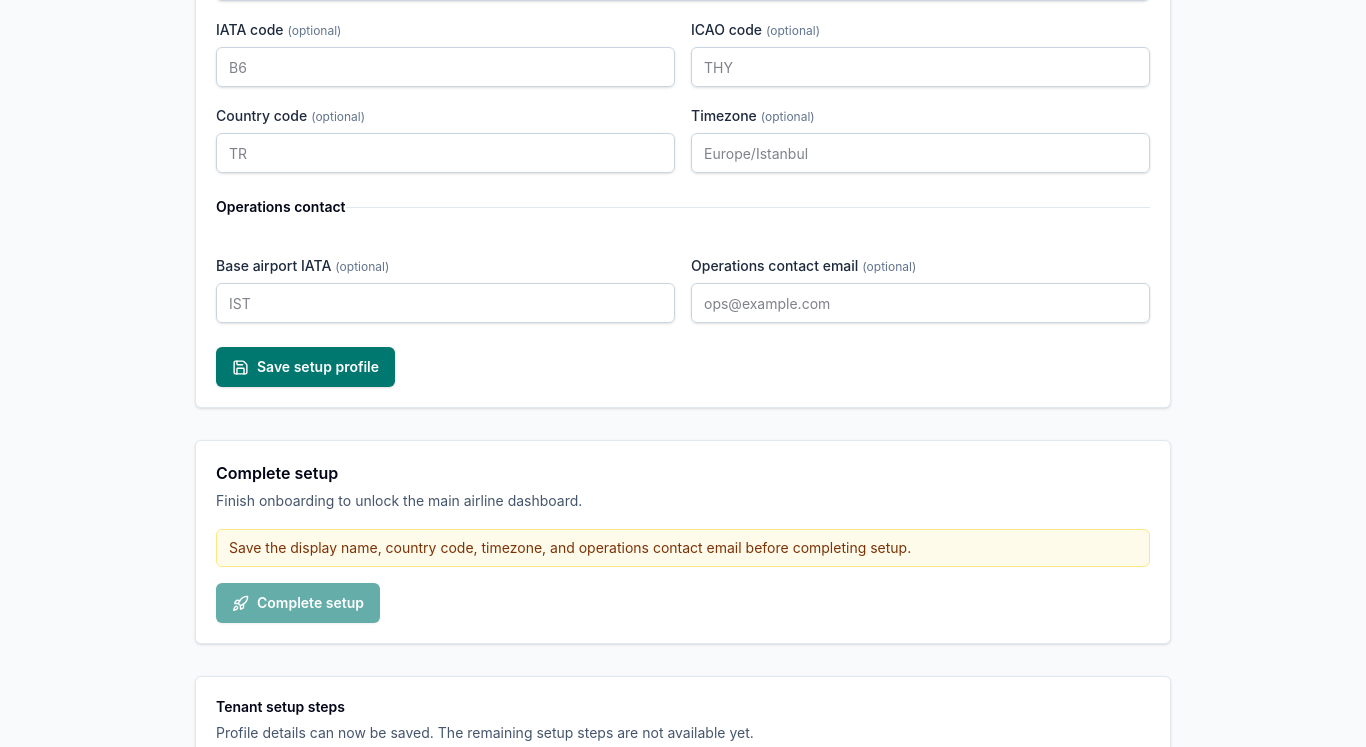
Test: AppSetupPage › shows client validation when display name is blank
(page scrolled)
Click the button "Save setup profile" at (306, 367), box [216, 347, 395, 387]
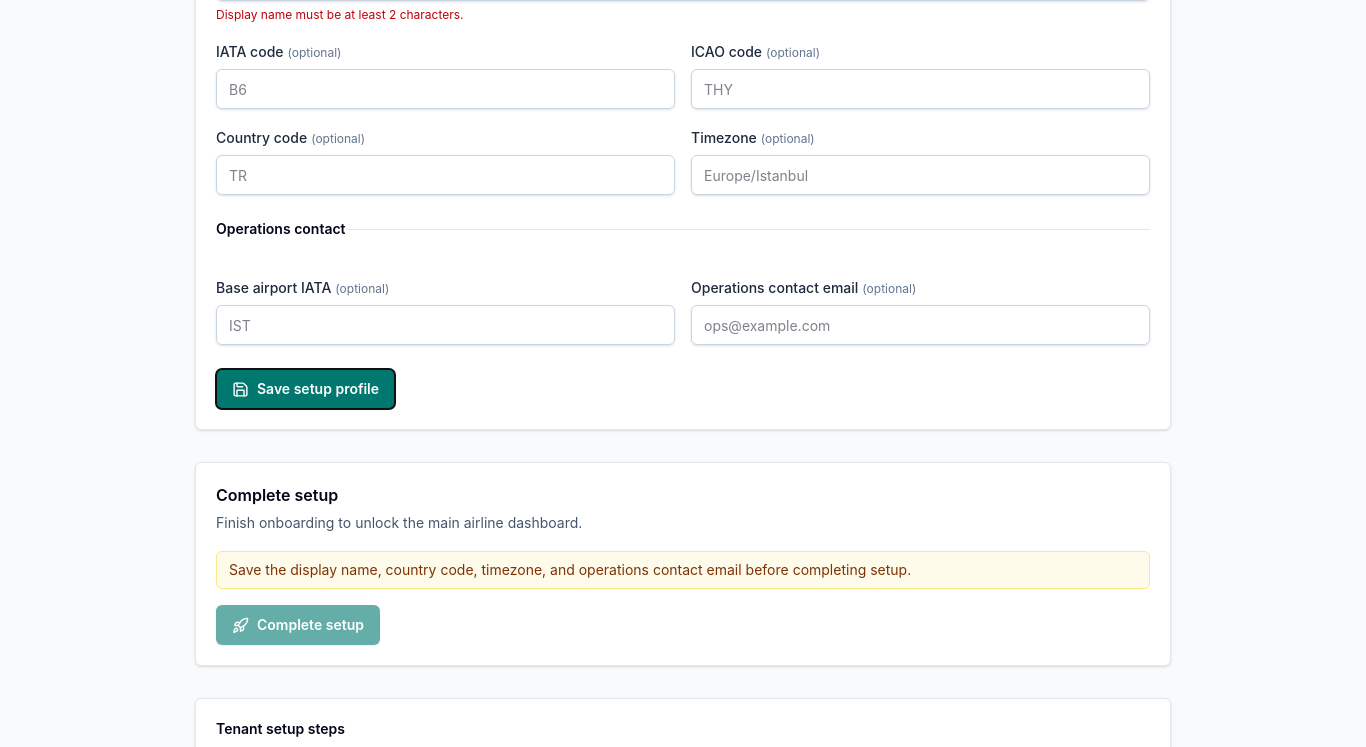
expect the text "Display name must be at least 2 characters." is shown: met, box [216, 7, 464, 22]
